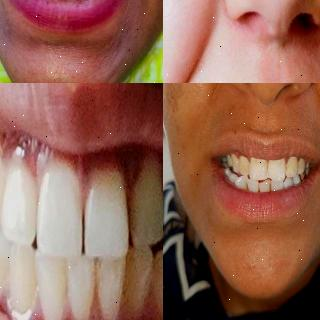maligned: (125, 233, 158, 320), (151, 244, 163, 320), (234, 174, 248, 190), (246, 177, 260, 193), (259, 178, 271, 192), (282, 176, 294, 188)
plaque: (240, 157, 250, 173), (288, 157, 298, 169), (299, 158, 306, 168)
stains: (263, 160, 271, 174), (267, 181, 275, 192), (245, 182, 251, 192), (283, 162, 289, 172), (256, 186, 262, 194)
